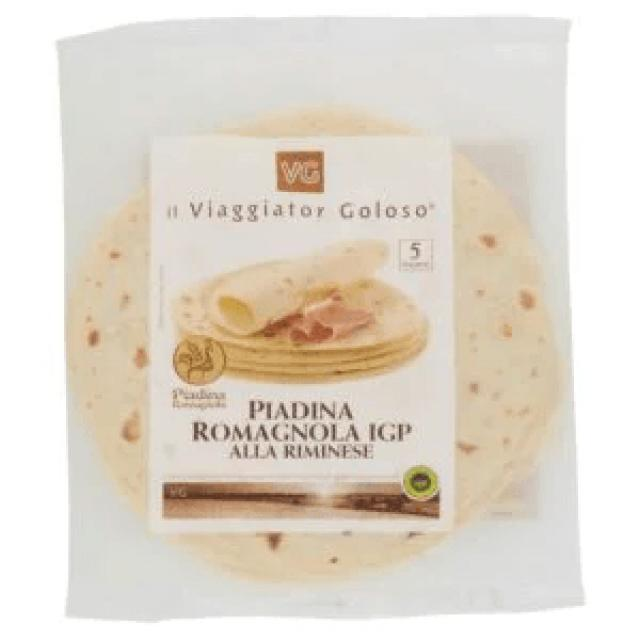Bread loaf: (56, 15, 584, 613)
